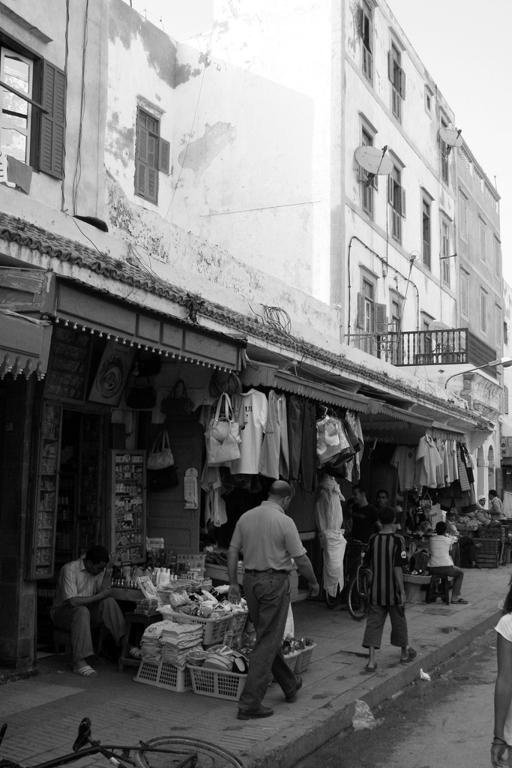non-vehicle: (0, 711, 246, 766), (347, 537, 376, 618)
